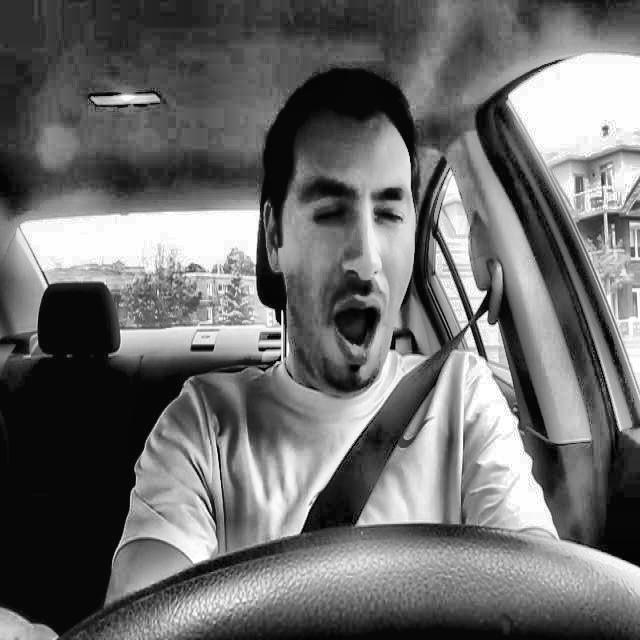closed_eyes: (298, 192, 358, 238), (365, 191, 417, 242)
open_mouth: (322, 281, 396, 372)
